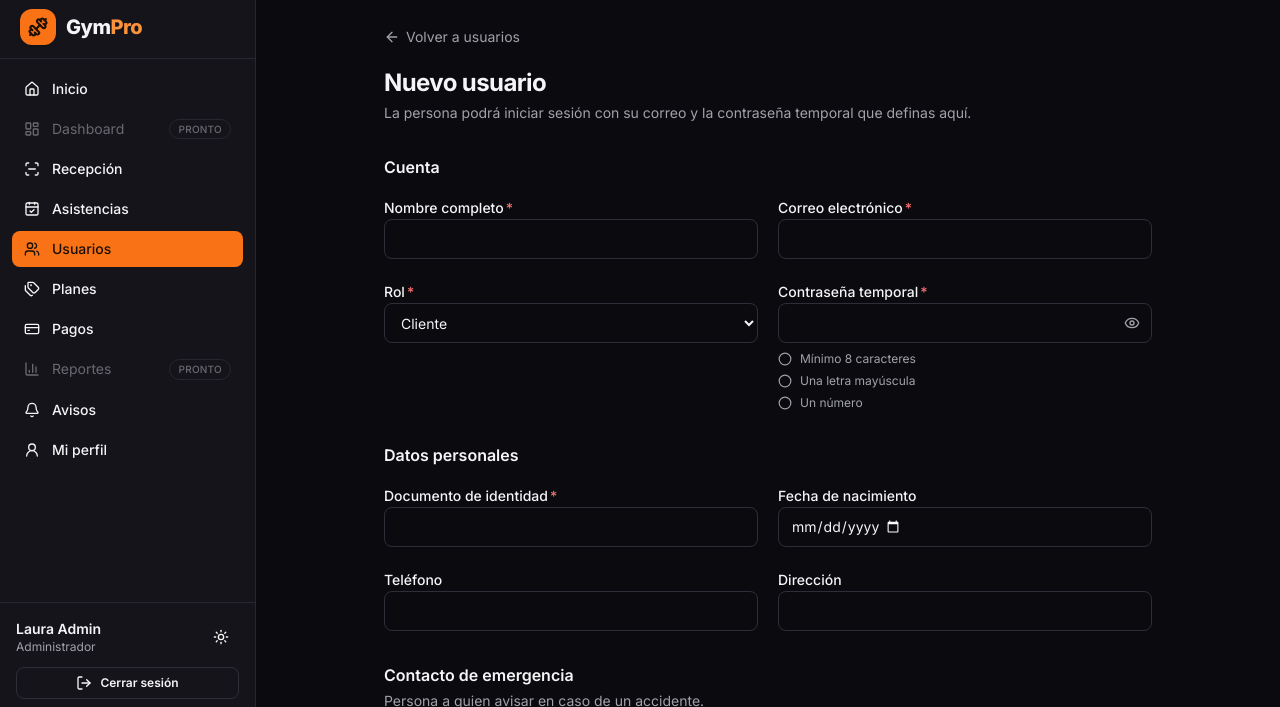
Nuevo usuario › después de crear, el formulario queda vacío para crear otro
Expected: the heading "Nuevo usuario" is shown, [384,68,546,97]
Step 1. Type "Ana Gómez" into the field labelled "Nombre completo*" → (571,239), box [384,219,758,259]
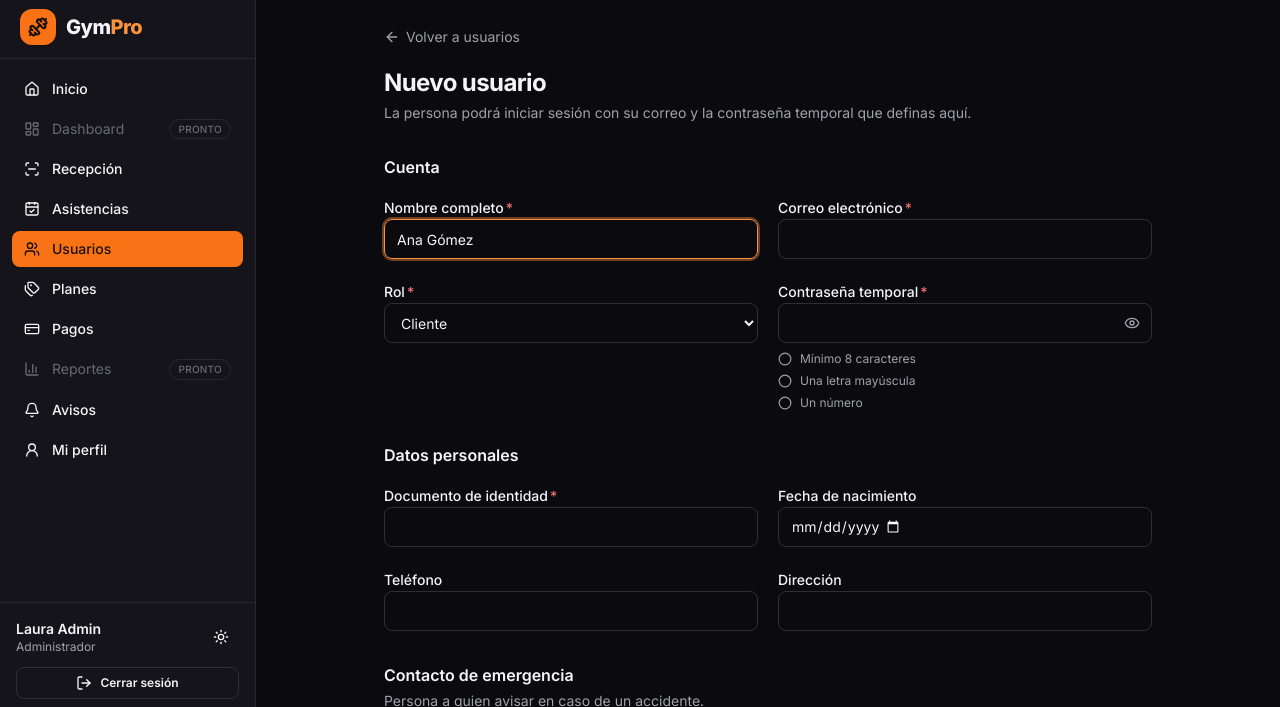
Step 2. Type "ana@gympro.com" into the field labelled "Correo electrónico*" → (965,239), box [778,219,1152,259]
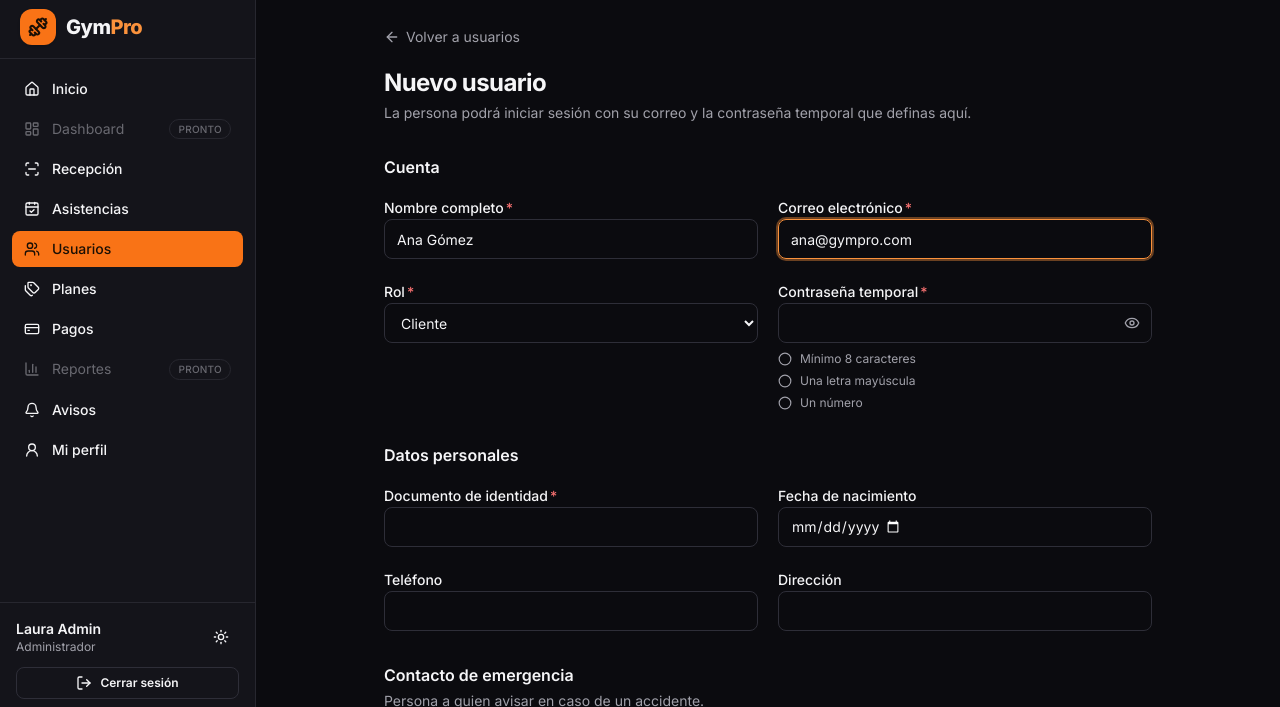
Step 3. Type "Temporal123" into the password field labelled "Contraseña temporal*" → (965,323), box [778,303,1152,343]
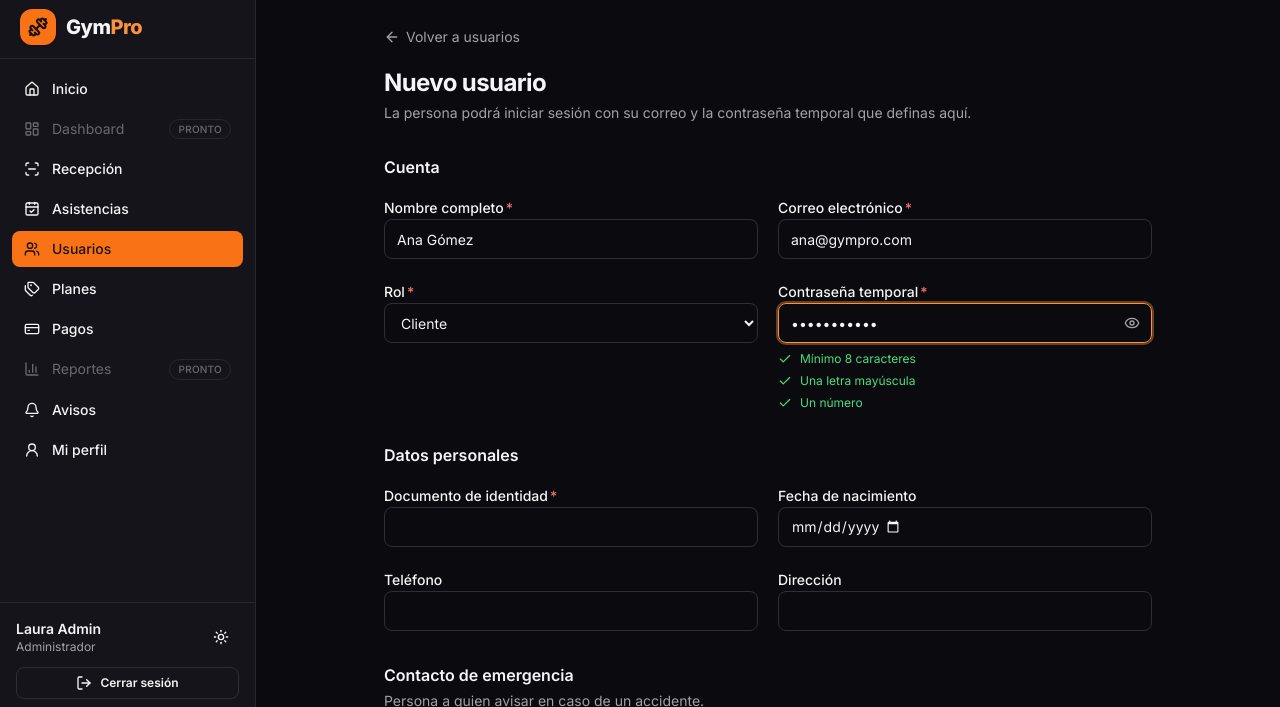
Step 4. Type "1010" into the field labelled "Documento de identidad*" → (571,527), box [384,507,758,547]
(page scrolled)
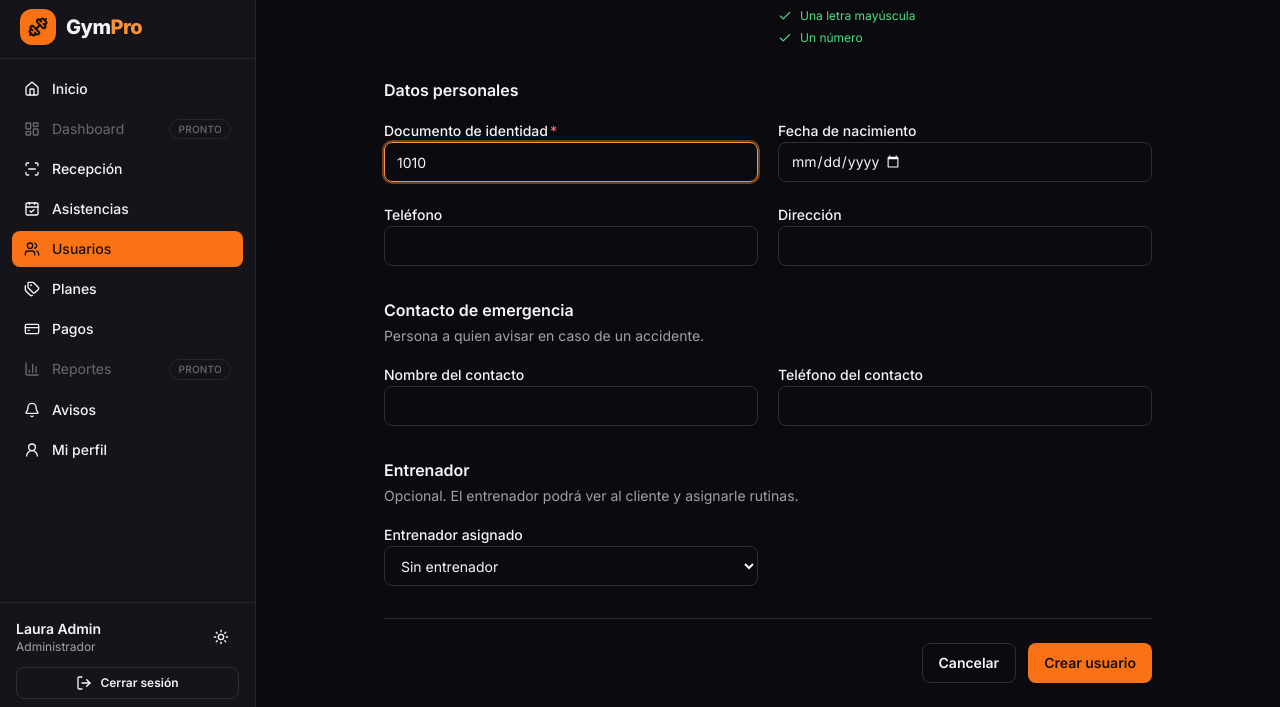
Step 5. Click the button "Crear usuario" → (1090,663), box [1028,643,1152,683]
(page scrolled)
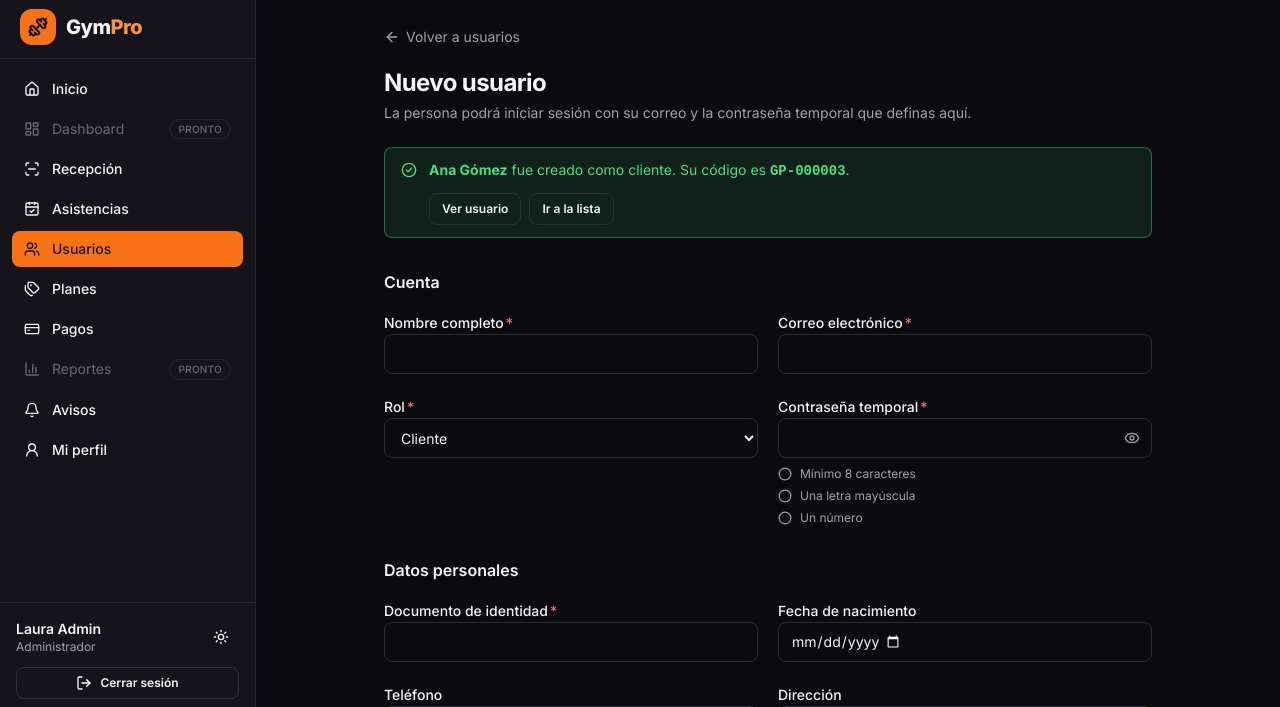
Result: the text "Ana Gómez fue creado como cliente. Su código es GP-000003." is shown at [429,160,850,181]
Result: the field labelled "Nombre completo*" is empty at [384,334,758,374]
